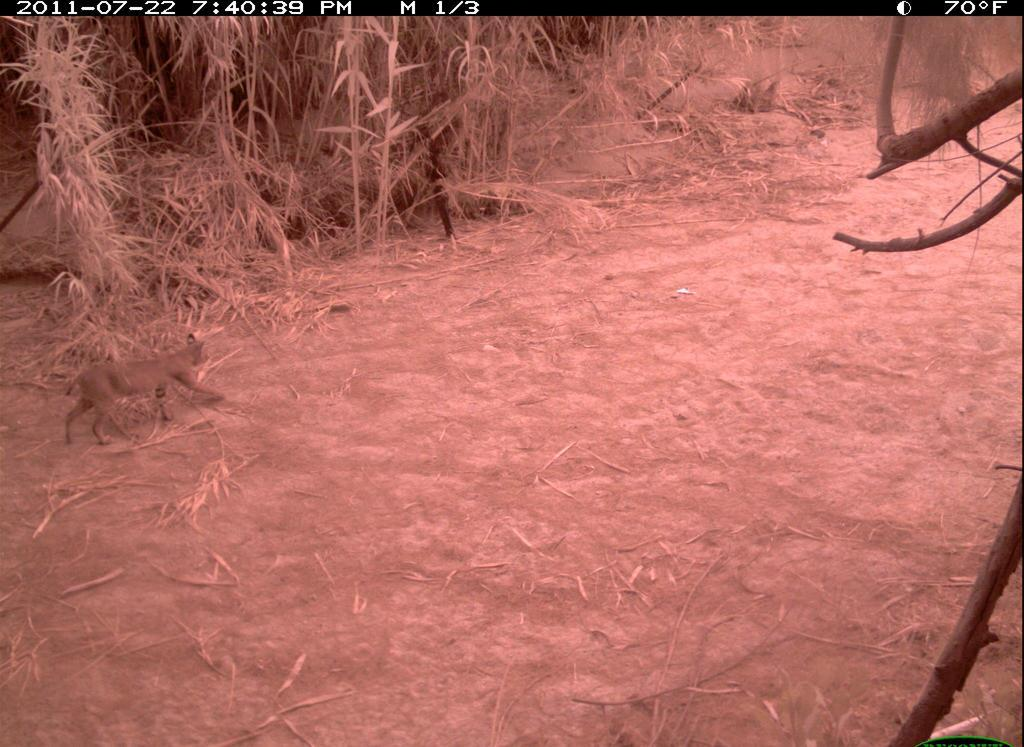bobcat: (63, 329, 230, 447)
